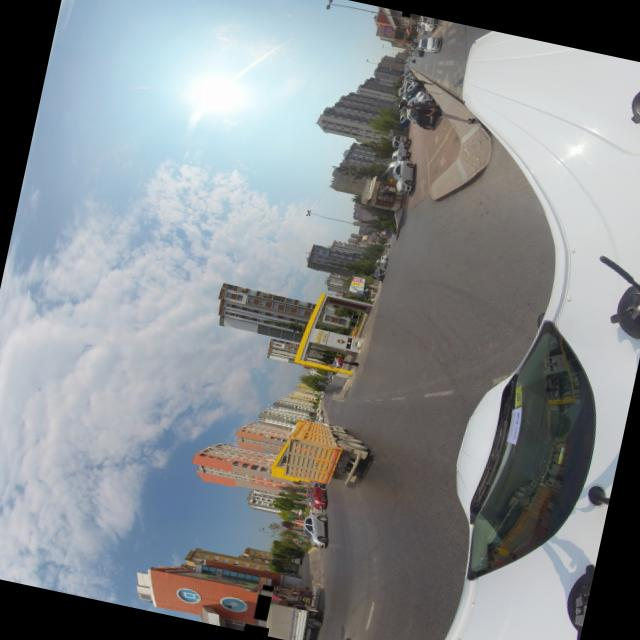SignStore: (257, 593, 270, 620), (245, 622, 256, 633), (257, 625, 266, 636), (262, 584, 274, 590), (403, 10, 410, 17)
